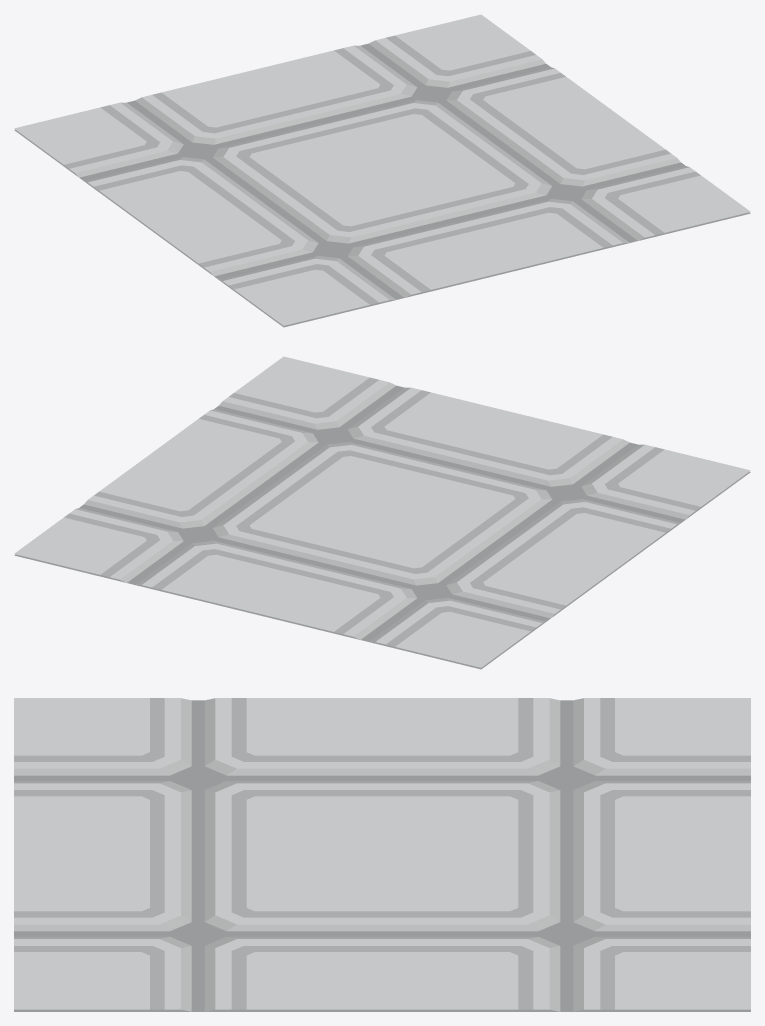
The model's file is Floor_type_A_025.glb.
3 views of the same model, one above another, from view 1: azimuth 30°, elevation 25°; view 2: azimuth 150°, elevation 25°; view 3: azimuth 270°, elevation 25° (orthographic). The views are drawn at different scales.
Parts seen in each view (by area): view 1: Floor_type_A_025; view 2: Floor_type_A_025; view 3: Floor_type_A_025.
Boxes of the visible parts, box(x1,y1,x2,y2) form: Floor_type_A_025: box(14, 14, 750, 327); Floor_type_A_025: box(14, 356, 750, 669); Floor_type_A_025: box(14, 698, 750, 1011).
Size of the model in its own units: 4 by 0.0134 by 4.
1 material, 1 textured.
